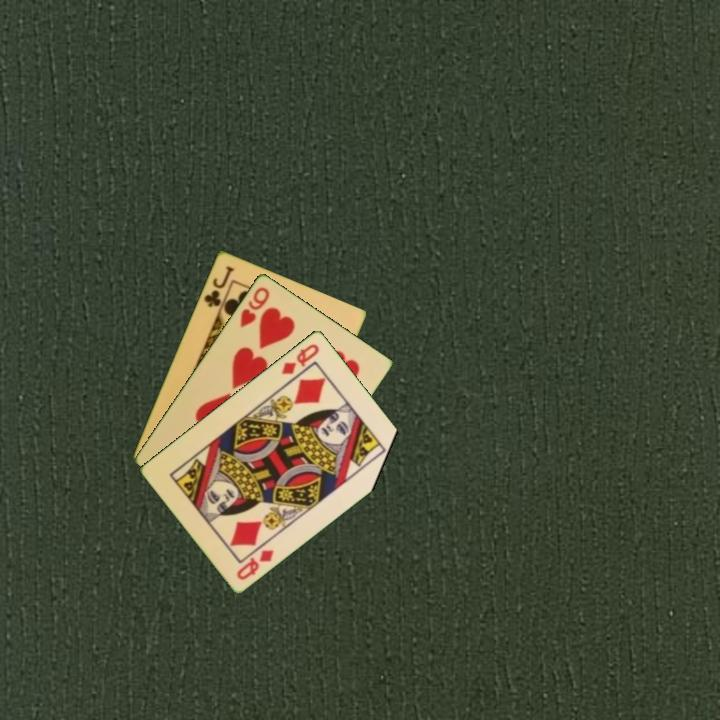9h: (236, 283, 272, 330)
Jc: (200, 262, 237, 310)
Qd: (233, 545, 277, 583), (278, 340, 322, 377)
